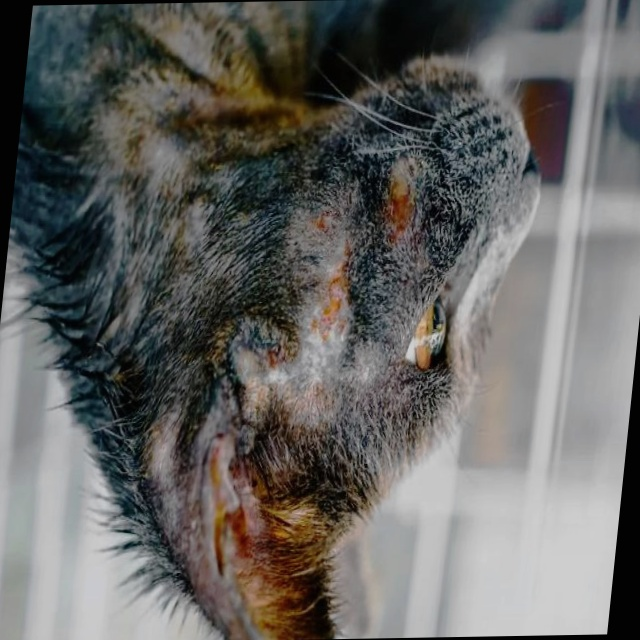ringworm: (302, 251, 361, 382), (227, 340, 294, 393), (377, 183, 415, 244), (306, 214, 337, 243)
